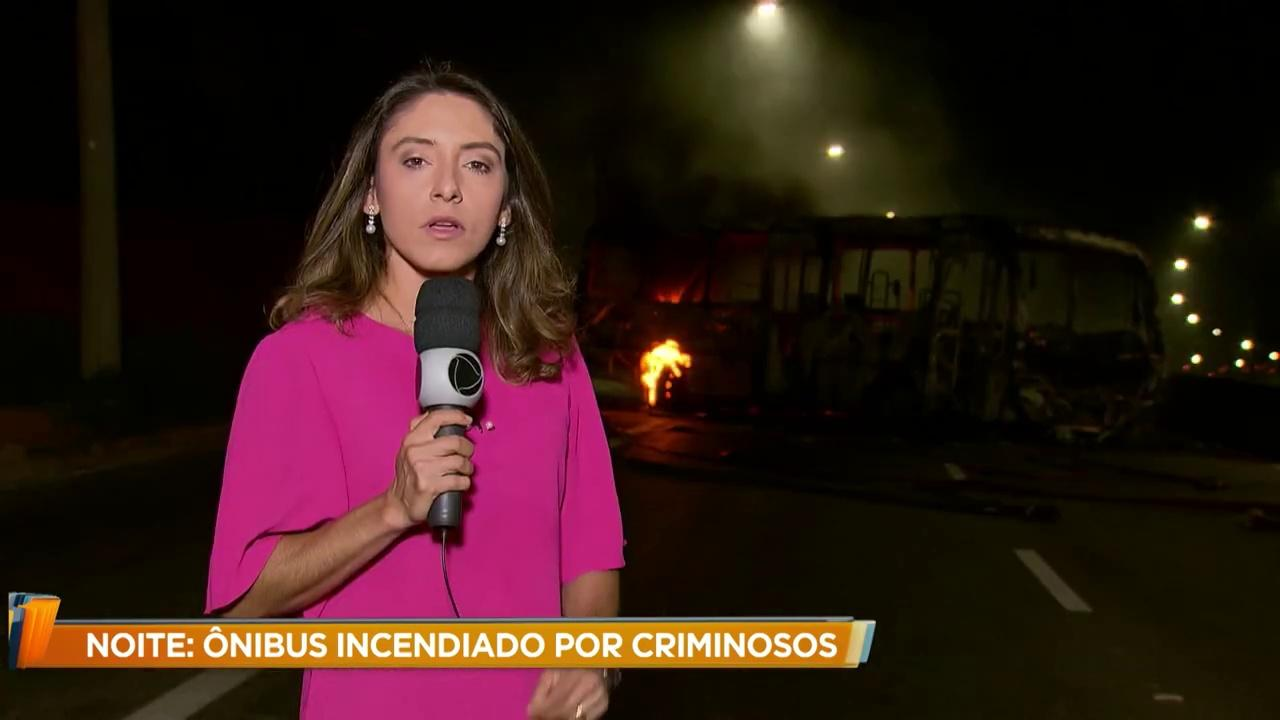fire: (642, 337, 685, 402)
